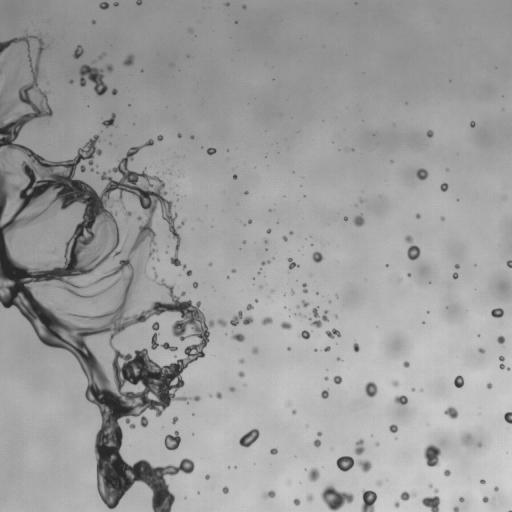droplet: (78, 64, 108, 95), (421, 483, 440, 511), (238, 428, 259, 448), (423, 444, 441, 467), (230, 310, 254, 326), (360, 489, 377, 511), (163, 430, 181, 450), (336, 456, 355, 471), (304, 467, 320, 482), (357, 459, 372, 473), (364, 381, 377, 397), (443, 406, 459, 419), (459, 430, 472, 446), (354, 438, 365, 455), (352, 213, 365, 227), (325, 328, 341, 339), (230, 331, 245, 342), (453, 374, 464, 389), (416, 168, 429, 180), (72, 45, 83, 59), (393, 395, 408, 405), (122, 54, 134, 66), (311, 251, 323, 263), (297, 329, 311, 339), (261, 489, 275, 499), (491, 308, 504, 318), (79, 54, 90, 65), (112, 56, 123, 67), (94, 59, 105, 70), (3, 63, 14, 74), (101, 73, 112, 84), (92, 122, 103, 133), (76, 136, 87, 147), (43, 151, 54, 162), (126, 160, 137, 171), (93, 182, 104, 193), (9, 196, 20, 207), (2, 207, 13, 218), (270, 230, 281, 241), (186, 291, 197, 302), (308, 295, 319, 306), (202, 310, 213, 321), (292, 321, 303, 332), (235, 322, 246, 333), (493, 343, 504, 354), (59, 348, 70, 359), (67, 354, 78, 365), (78, 376, 89, 387), (325, 380, 336, 391), (89, 403, 100, 414), (163, 405, 174, 416), (143, 407, 154, 418), (91, 418, 102, 429), (118, 447, 129, 458), (87, 451, 98, 462), (124, 454, 135, 465), (431, 464, 442, 475), (132, 479, 143, 490), (314, 480, 325, 491), (481, 484, 492, 495), (124, 487, 135, 498), (143, 487, 154, 498), (352, 495, 363, 506), (410, 495, 421, 506), (261, 316, 273, 325), (280, 321, 292, 330), (496, 335, 505, 347), (332, 375, 342, 384), (388, 424, 398, 433), (321, 388, 329, 399), (503, 307, 511, 318), (504, 412, 511, 424), (305, 493, 314, 502), (23, 75, 32, 84), (85, 79, 94, 88), (37, 80, 46, 89), (67, 150, 76, 159), (72, 171, 81, 180), (295, 291, 304, 300), (304, 292, 313, 301), (271, 319, 280, 328), (321, 321, 330, 330), (322, 336, 331, 345), (243, 351, 252, 360), (179, 370, 188, 379), (232, 376, 241, 385), (174, 387, 183, 396), (130, 415, 139, 424), (116, 416, 125, 425), (87, 436, 96, 445), (467, 442, 476, 451), (358, 452, 367, 461), (149, 459, 158, 468), (311, 460, 320, 469), (351, 463, 360, 472), (162, 473, 171, 482), (335, 484, 344, 493), (485, 488, 494, 497), (206, 147, 216, 155), (0, 286, 7, 297), (440, 182, 448, 191), (301, 299, 310, 307), (391, 379, 400, 387), (313, 438, 321, 447), (99, 2, 109, 9), (505, 334, 511, 345), (505, 355, 511, 366), (143, 505, 154, 511), (169, 505, 180, 511), (291, 505, 302, 511), (336, 505, 347, 511), (436, 505, 447, 511), (292, 498, 300, 506), (302, 283, 308, 293), (353, 342, 359, 352), (106, 64, 113, 72), (426, 129, 433, 137), (237, 370, 245, 377), (443, 469, 451, 476), (230, 0, 241, 5), (156, 134, 163, 141), (246, 304, 253, 311), (251, 347, 258, 354), (215, 392, 222, 399), (285, 400, 292, 407), (270, 448, 277, 455), (482, 496, 489, 503), (15, 30, 22, 37), (18, 40, 25, 47), (3, 46, 10, 53), (132, 57, 139, 64), (125, 64, 132, 71), (37, 68, 44, 75), (73, 73, 80, 80), (104, 89, 111, 96), (32, 116, 39, 123), (181, 132, 188, 139), (94, 141, 101, 148), (33, 147, 40, 154), (79, 158, 86, 165), (145, 168, 152, 175), (101, 179, 108, 186), (154, 207, 161, 214), (347, 214, 354, 221), (173, 218, 180, 225), (161, 220, 168, 227), (150, 223, 157, 230), (358, 224, 365, 231), (355, 225, 362, 232), (169, 237, 176, 244), (167, 250, 174, 257), (147, 259, 154, 266), (188, 274, 195, 281), (165, 278, 172, 285), (262, 286, 269, 293), (172, 288, 179, 295), (178, 295, 185, 302), (9, 304, 16, 311), (305, 305, 312, 312), (316, 308, 323, 315), (242, 310, 249, 317), (224, 314, 231, 321), (21, 317, 28, 324), (304, 324, 311, 331), (43, 344, 50, 351), (46, 345, 53, 352), (53, 346, 60, 353), (236, 363, 243, 370), (359, 388, 366, 395), (221, 389, 228, 396), (199, 392, 206, 399), (169, 398, 176, 405), (395, 402, 402, 409), (454, 404, 461, 411), (443, 414, 450, 421), (173, 422, 180, 429), (94, 423, 101, 430), (464, 426, 471, 433), (120, 436, 127, 443), (454, 436, 461, 443), (471, 436, 478, 443), (432, 440, 439, 447), (351, 453, 358, 460), (436, 453, 443, 460), (420, 456, 427, 463), (367, 467, 374, 474), (302, 471, 309, 478), (167, 486, 174, 493), (427, 491, 434, 498), (118, 497, 125, 504), (299, 497, 306, 504), (399, 499, 406, 506), (372, 500, 379, 507), (437, 502, 444, 509), (457, 502, 464, 509), (192, 281, 198, 289), (477, 347, 485, 353), (172, 416, 178, 424), (375, 480, 383, 486), (222, 486, 228, 494), (322, 506, 331, 511), (422, 506, 431, 511), (111, 88, 117, 95), (177, 172, 184, 178), (452, 272, 458, 279), (403, 360, 409, 367), (486, 382, 492, 389), (228, 386, 235, 392), (479, 478, 486, 484), (458, 496, 465, 502), (263, 237, 268, 245), (506, 260, 511, 268), (415, 213, 421, 219), (67, 223, 73, 229), (238, 358, 244, 364), (0, 34, 4, 43), (0, 217, 4, 226), (470, 120, 475, 127), (290, 288, 295, 295), (317, 430, 322, 437), (136, 0, 142, 5), (358, 197, 363, 203), (343, 216, 348, 222), (282, 235, 287, 241), (454, 264, 460, 269), (230, 268, 236, 273), (269, 288, 275, 293), (336, 356, 342, 361), (291, 409, 297, 414), (374, 441, 379, 447), (453, 506, 459, 511), (110, 507, 117, 511), (392, 507, 399, 511), (188, 28, 193, 33), (68, 79, 73, 84), (440, 216, 445, 221), (266, 228, 271, 233), (258, 284, 263, 289), (286, 346, 291, 351), (477, 442, 482, 447), (205, 474, 210, 479), (494, 486, 499, 491), (108, 2, 113, 7), (102, 8, 107, 13), (31, 30, 36, 35), (41, 37, 46, 42), (9, 42, 14, 47), (81, 44, 86, 49), (41, 49, 46, 54), (69, 49, 74, 54), (96, 50, 101, 55), (121, 55, 126, 60), (88, 62, 93, 67), (38, 64, 43, 69), (1, 66, 6, 71), (101, 77, 106, 82), (115, 85, 120, 90), (91, 90, 96, 95), (46, 93, 51, 98), (47, 100, 52, 105), (51, 111, 56, 116), (106, 114, 111, 119), (43, 115, 48, 120), (112, 119, 117, 124), (23, 122, 28, 127), (100, 124, 105, 129), (107, 124, 112, 129), (93, 129, 98, 134), (179, 129, 184, 134), (432, 131, 437, 136), (98, 134, 103, 139), (106, 136, 111, 141), (143, 137, 148, 142), (152, 137, 157, 142), (13, 138, 18, 143), (22, 141, 27, 146), (132, 142, 137, 147), (210, 143, 215, 148), (146, 144, 151, 149), (202, 145, 207, 150), (121, 152, 126, 157), (132, 153, 137, 158), (204, 153, 209, 158), (113, 161, 118, 166), (422, 164, 427, 169), (136, 168, 141, 173), (411, 170, 416, 175), (414, 176, 419, 181), (232, 178, 237, 183), (422, 178, 427, 183), (446, 186, 451, 191), (439, 190, 444, 195), (360, 193, 365, 198), (162, 194, 167, 199), (170, 207, 175, 212), (410, 213, 415, 218), (361, 214, 366, 219), (419, 215, 424, 220), (175, 228, 180, 233), (406, 230, 411, 235), (265, 233, 270, 238), (285, 233, 290, 238), (306, 238, 311, 243), (411, 240, 416, 245), (405, 242, 410, 247), (178, 243, 183, 248), (240, 243, 245, 248), (260, 243, 265, 248), (177, 247, 182, 252), (402, 250, 407, 255), (151, 251, 156, 256), (320, 251, 325, 256), (418, 252, 423, 257), (177, 255, 182, 260), (262, 256, 267, 261), (405, 257, 410, 262), (414, 257, 419, 262), (204, 258, 209, 263), (309, 258, 314, 263), (319, 259, 324, 264), (284, 260, 289, 265), (263, 263, 268, 268), (177, 264, 182, 269), (185, 265, 190, 270), (155, 267, 160, 272), (452, 267, 457, 272), (455, 268, 460, 273), (251, 271, 256, 276), (229, 272, 234, 277), (149, 273, 154, 278), (156, 276, 161, 281), (297, 280, 302, 285), (253, 284, 258, 289), (285, 288, 290, 293), (270, 292, 275, 297), (330, 295, 335, 300), (304, 297, 309, 302), (191, 300, 196, 305), (250, 300, 255, 305), (297, 300, 302, 305), (490, 304, 495, 309), (198, 305, 203, 310), (502, 307, 507, 312), (294, 308, 299, 313), (486, 310, 491, 315), (263, 312, 268, 317), (308, 312, 313, 317), (325, 312, 330, 317), (311, 316, 316, 321), (493, 316, 498, 321), (284, 317, 289, 322), (320, 319, 325, 324), (226, 322, 231, 327), (247, 322, 252, 327), (265, 322, 270, 327), (28, 325, 33, 330), (207, 327, 212, 332), (282, 327, 287, 332), (496, 331, 501, 336), (502, 333, 507, 338), (207, 334, 212, 339), (323, 334, 328, 339), (33, 335, 38, 340), (308, 335, 313, 340), (300, 337, 305, 342), (232, 338, 237, 343), (36, 339, 41, 344), (493, 339, 498, 344), (502, 340, 507, 345), (496, 342, 501, 347), (282, 343, 287, 348), (357, 343, 362, 348), (481, 344, 486, 349), (257, 346, 262, 351), (349, 346, 354, 351), (201, 347, 206, 352), (478, 352, 483, 357), (237, 353, 242, 358), (252, 353, 257, 358), (197, 356, 202, 361), (407, 358, 412, 363), (233, 359, 238, 364), (502, 360, 507, 365), (398, 361, 403, 366), (187, 362, 192, 367), (408, 363, 413, 368), (403, 366, 408, 371), (77, 367, 82, 372), (233, 369, 238, 374), (243, 369, 248, 374), (322, 371, 327, 376), (328, 375, 333, 380), (239, 376, 244, 381), (341, 376, 346, 381), (462, 376, 467, 381), (368, 377, 373, 382), (396, 377, 401, 382), (449, 378, 454, 383), (373, 379, 378, 384), (339, 381, 344, 386), (226, 382, 231, 387), (481, 382, 486, 387), (491, 382, 496, 387), (334, 383, 339, 388), (450, 383, 455, 388), (461, 384, 466, 389), (321, 385, 326, 390), (414, 385, 419, 390), (216, 387, 221, 392), (484, 387, 489, 392), (317, 388, 322, 393), (232, 390, 237, 395), (80, 391, 85, 396), (196, 391, 201, 396), (211, 391, 216, 396), (396, 391, 401, 396), (190, 392, 195, 397), (374, 392, 379, 397), (211, 394, 216, 399), (317, 395, 322, 400), (406, 395, 411, 400), (323, 397, 328, 402), (189, 399, 194, 404), (402, 403, 407, 408), (290, 404, 295, 409), (442, 405, 447, 410), (286, 408, 291, 413), (456, 409, 461, 414), (295, 410, 300, 415), (127, 414, 132, 419), (499, 414, 504, 419), (390, 419, 395, 424), (387, 420, 392, 425), (504, 421, 509, 426), (146, 422, 151, 427), (396, 424, 401, 429), (384, 425, 389, 430), (242, 429, 247, 434), (321, 430, 326, 435), (170, 431, 175, 436), (389, 431, 394, 436), (393, 431, 398, 436), (238, 432, 243, 437), (313, 434, 318, 439), (317, 435, 322, 440), (354, 436, 359, 441), (255, 437, 260, 442), (480, 439, 485, 444), (250, 442, 255, 447), (361, 442, 366, 447), (270, 443, 275, 448), (378, 443, 383, 448), (240, 445, 245, 450), (311, 445, 316, 450), (265, 447, 270, 452), (168, 449, 173, 454), (343, 451, 348, 456), (337, 452, 342, 457), (271, 453, 276, 458), (186, 454, 191, 459), (331, 459, 336, 464), (174, 462, 179, 467), (306, 465, 311, 470), (430, 465, 435, 470), (192, 466, 197, 471), (448, 466, 453, 471), (348, 467, 353, 472), (177, 469, 182, 474), (338, 469, 343, 474), (439, 471, 444, 476), (185, 472, 190, 477), (448, 473, 453, 478), (92, 479, 97, 484), (432, 483, 437, 488), (92, 485, 97, 490), (227, 485, 232, 490), (265, 486, 270, 491), (364, 486, 369, 491), (370, 486, 375, 491), (217, 487, 222, 492), (406, 488, 411, 493), (397, 489, 402, 494), (494, 490, 499, 495), (274, 491, 279, 496), (435, 491, 440, 496), (486, 493, 491, 498), (289, 495, 294, 500), (266, 496, 271, 501), (407, 496, 412, 501), (477, 496, 482, 501), (463, 497, 468, 502), (487, 497, 492, 502), (389, 501, 394, 506), (484, 501, 489, 506), (290, 502, 295, 507), (295, 504, 300, 509), (113, 2, 119, 6), (243, 190, 249, 194), (106, 0, 113, 3), (240, 0, 247, 3), (0, 82, 3, 89), (0, 145, 3, 152), (224, 2, 229, 6), (242, 4, 246, 9), (177, 133, 181, 138), (233, 174, 237, 179), (289, 230, 293, 235), (406, 273, 411, 277), (418, 388, 423, 392), (286, 480, 290, 485), (507, 422, 511, 427), (91, 20, 95, 24), (190, 135, 194, 139), (248, 219, 252, 223), (242, 240, 246, 244), (208, 262, 212, 266), (254, 298, 258, 302), (296, 304, 300, 308), (324, 376, 328, 380), (411, 387, 415, 391), (89, 168, 94, 171), (335, 293, 338, 298), (508, 255, 511, 260), (508, 407, 511, 412), (448, 508, 453, 511), (457, 508, 462, 511), (350, 148, 354, 151), (95, 164, 98, 168), (445, 168, 449, 171), (309, 273, 312, 277), (226, 275, 229, 279), (315, 291, 318, 295), (421, 321, 425, 324), (243, 383, 247, 386), (208, 394, 212, 397), (370, 433, 373, 437), (234, 465, 237, 469), (99, 0, 104, 2), (141, 0, 146, 2), (223, 0, 228, 2), (0, 133, 2, 138), (0, 302, 2, 307), (234, 20, 237, 23), (186, 54, 189, 57), (140, 69, 143, 72), (108, 142, 111, 145), (390, 160, 393, 163), (303, 194, 306, 197), (176, 198, 179, 201), (456, 198, 459, 201), (354, 204, 357, 207), (243, 223, 246, 226), (310, 243, 313, 246), (265, 248, 268, 251), (385, 264, 388, 267), (178, 273, 181, 276), (267, 295, 270, 298), (328, 300, 331, 303), (426, 310, 429, 313), (224, 332, 227, 335), (477, 334, 480, 337), (314, 348, 317, 351), (305, 424, 308, 427), (394, 437, 397, 440), (184, 496, 187, 499), (118, 2, 121, 5), (133, 2, 136, 5), (139, 3, 142, 6), (228, 4, 231, 7), (245, 4, 248, 7), (114, 5, 117, 8), (224, 5, 227, 8), (240, 7, 243, 10), (92, 16, 95, 19), (234, 17, 237, 20), (88, 20, 91, 23), (95, 20, 98, 23), (231, 20, 234, 23), (237, 20, 240, 23), (92, 23, 95, 26), (234, 23, 237, 26), (193, 31, 196, 34), (27, 32, 30, 35), (77, 41, 80, 44), (73, 46, 76, 49), (25, 50, 28, 53), (25, 56, 28, 59), (142, 67, 145, 70), (137, 68, 140, 71), (140, 71, 143, 74), (66, 78, 69, 81), (272, 79, 275, 82), (68, 83, 71, 86), (81, 85, 84, 88), (40, 88, 43, 91), (115, 92, 118, 95), (127, 100, 130, 103), (124, 103, 127, 106), (127, 106, 130, 109), (50, 107, 53, 110), (471, 117, 474, 120), (474, 123, 477, 126), (467, 124, 470, 127), (472, 126, 475, 129), (156, 132, 159, 135), (160, 132, 163, 135), (191, 132, 194, 135), (174, 134, 177, 137), (180, 135, 183, 138), (193, 135, 196, 138), (372, 135, 375, 138), (425, 135, 428, 138), (429, 136, 432, 139), (86, 138, 89, 141), (161, 138, 164, 141), (189, 138, 192, 141), (111, 141, 114, 144), (208, 144, 211, 147), (197, 145, 200, 148), (352, 145, 355, 148), (223, 148, 226, 151), (349, 150, 352, 153), (225, 151, 228, 154), (100, 152, 103, 155), (263, 152, 266, 155), (211, 153, 214, 156), (266, 155, 269, 158), (89, 164, 92, 167), (93, 168, 96, 171), (104, 169, 107, 172), (171, 171, 174, 174), (176, 171, 179, 174), (233, 171, 236, 174), (179, 175, 182, 178), (229, 175, 232, 178), (236, 175, 239, 178), (159, 176, 162, 179), (440, 180, 443, 183), (445, 180, 448, 183), (437, 186, 440, 189), (242, 188, 245, 191), (247, 188, 250, 191), (303, 191, 306, 194), (242, 193, 245, 196), (245, 193, 248, 196), (300, 193, 303, 196), (177, 195, 180, 198), (456, 195, 459, 198), (303, 196, 306, 199), (178, 198, 181, 201), (453, 199, 456, 202), (458, 199, 461, 202), (356, 201, 359, 204), (270, 206, 273, 209), (268, 211, 271, 214), (418, 211, 421, 214), (345, 213, 348, 216), (441, 213, 444, 216), (199, 216, 202, 219), (249, 216, 252, 219), (437, 217, 440, 220), (444, 217, 447, 220), (163, 219, 166, 222), (251, 219, 254, 222), (273, 219, 276, 222), (341, 219, 344, 222), (244, 220, 247, 223), (278, 220, 281, 223), (183, 221, 186, 224), (239, 223, 242, 226), (265, 226, 268, 229), (292, 229, 295, 232), (269, 231, 272, 234), (170, 233, 173, 236), (153, 235, 156, 238), (242, 236, 245, 239), (280, 238, 283, 241), (239, 239, 242, 242), (245, 240, 248, 243), (267, 240, 270, 243), (311, 240, 314, 243), (151, 244, 154, 247), (264, 244, 267, 247), (261, 248, 264, 251), (265, 250, 268, 253), (273, 253, 276, 256), (288, 254, 291, 257), (148, 257, 151, 260), (153, 257, 156, 260), (268, 257, 271, 260), (167, 259, 170, 262), (258, 259, 261, 262), (211, 260, 214, 263), (385, 260, 388, 263), (455, 260, 458, 263), (473, 260, 476, 263), (295, 261, 298, 264), (382, 263, 385, 266), (458, 263, 461, 266), (259, 264, 262, 267), (299, 264, 302, 267), (208, 265, 211, 268), (231, 265, 234, 268), (293, 265, 296, 268), (387, 265, 390, 268), (505, 265, 508, 268), (235, 268, 238, 271), (256, 268, 259, 271), (259, 269, 262, 272), (407, 269, 410, 272), (191, 270, 194, 273), (410, 273, 413, 276), (457, 273, 460, 276), (223, 275, 226, 278), (405, 275, 408, 278), (254, 276, 257, 279), (450, 276, 453, 279), (195, 279, 198, 282), (252, 279, 255, 282), (301, 280, 304, 283), (425, 280, 428, 283), (189, 283, 192, 286), (197, 283, 200, 286), (428, 283, 431, 286), (300, 286, 303, 289), (292, 287, 295, 290), (182, 288, 185, 291), (315, 288, 318, 291), (312, 291, 315, 294), (318, 291, 321, 294), (280, 292, 283, 295), (303, 292, 306, 295), (337, 293, 340, 296), (256, 296, 259, 299), (282, 302, 285, 305), (313, 304, 316, 307), (286, 305, 289, 308), (280, 306, 283, 309), (325, 307, 328, 310), (425, 307, 428, 310), (428, 311, 431, 314), (424, 312, 427, 315), (291, 313, 294, 316), (296, 314, 299, 317), (337, 314, 340, 317), (420, 318, 423, 321), (423, 318, 426, 321), (420, 323, 423, 326), (334, 326, 337, 329), (328, 328, 331, 331), (307, 329, 310, 332), (298, 330, 301, 333), (339, 331, 342, 334), (475, 331, 478, 334), (479, 334, 482, 337), (476, 336, 479, 339), (305, 338, 308, 341), (287, 343, 290, 346), (323, 344, 326, 347), (290, 346, 293, 349), (316, 349, 319, 352), (286, 350, 289, 353), (325, 350, 328, 353), (313, 351, 316, 354), (497, 353, 500, 356), (501, 353, 504, 356), (333, 356, 336, 359), (340, 356, 343, 359), (338, 359, 341, 362), (496, 364, 499, 367), (458, 372, 461, 375), (339, 374, 342, 377), (411, 384, 414, 387), (423, 388, 426, 391), (327, 390, 330, 393), (419, 391, 422, 394), (402, 392, 405, 395), (85, 399, 88, 402), (183, 400, 186, 403), (191, 409, 194, 412), (188, 412, 191, 415), (194, 412, 197, 415), (191, 415, 194, 418), (169, 418, 172, 421), (175, 420, 178, 423), (164, 432, 167, 435), (193, 433, 196, 436), (372, 433, 375, 436), (162, 435, 165, 438), (161, 438, 164, 441), (378, 440, 381, 443), (161, 442, 164, 445), (178, 442, 181, 445), (319, 443, 322, 446), (480, 445, 483, 448), (163, 446, 166, 449), (476, 446, 479, 449), (276, 447, 279, 450), (224, 464, 227, 467), (236, 464, 239, 467), (230, 465, 233, 468), (203, 472, 206, 475), (479, 476, 482, 479), (482, 476, 485, 479), (202, 477, 205, 480), (208, 477, 211, 480), (476, 479, 479, 482), (480, 483, 483, 486), (221, 484, 224, 487), (496, 484, 499, 487), (497, 488, 500, 491), (193, 490, 196, 493), (199, 490, 202, 493), (226, 491, 229, 494), (459, 493, 462, 496), (295, 495, 298, 498), (456, 495, 459, 498), (186, 496, 189, 499), (228, 465, 230, 469), (354, 2, 357, 4), (128, 104, 131, 106), (133, 122, 135, 125), (226, 149, 229, 151), (276, 221, 279, 223), (309, 235, 311, 238), (165, 251, 168, 253), (272, 257, 275, 259), (399, 278, 402, 280), (428, 281, 431, 283), (283, 306, 286, 308), (288, 308, 290, 311), (192, 432, 194, 435), (299, 481, 301, 484), (197, 491, 199, 494), (509, 267, 511, 270), (509, 367, 511, 370), (509, 507, 511, 510), (449, 80, 451, 82), (405, 102, 407, 104), (87, 105, 89, 107), (100, 130, 102, 132), (201, 146, 203, 148), (338, 149, 340, 151), (292, 171, 294, 173), (300, 185, 302, 187), (166, 245, 168, 247), (474, 264, 476, 266), (288, 315, 290, 317), (192, 413, 194, 415), (478, 412, 480, 414), (114, 0, 117, 1), (133, 0, 136, 1), (354, 0, 357, 1), (0, 163, 1, 166), (373, 134, 375, 135), (332, 141, 333, 143), (305, 237, 306, 239), (239, 248, 241, 249), (264, 275, 265, 277), (446, 306, 447, 308), (311, 330, 313, 331), (335, 343, 337, 344)
ligament: (404, 235, 420, 260), (394, 491, 417, 508), (498, 355, 510, 371), (91, 52, 106, 64), (291, 311, 306, 317), (0, 61, 6, 74), (320, 345, 330, 351), (260, 260, 271, 265), (257, 267, 262, 274), (334, 313, 338, 319), (268, 209, 274, 211), (283, 292, 286, 296), (252, 277, 255, 280), (110, 133, 112, 137), (176, 184, 178, 186), (176, 193, 178, 195), (507, 510, 511, 511)
